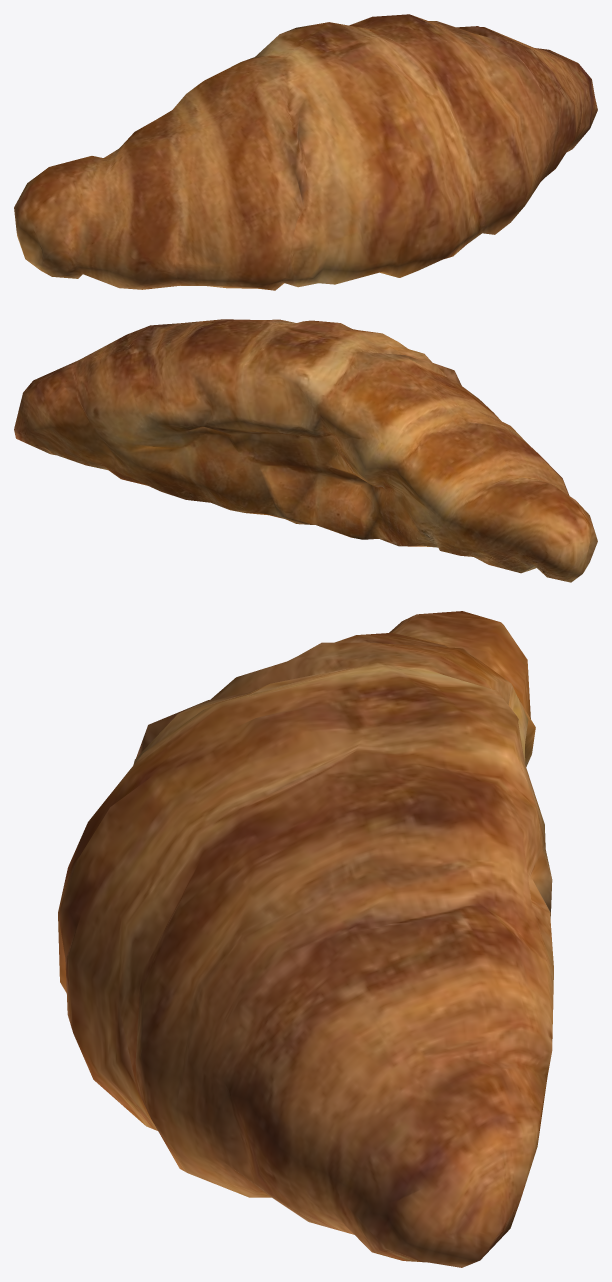
The model's file is croissant.glb.
The picture shows the model from 3 angles, top to bottom: view 1: azimuth 30°, elevation 25°; view 2: azimuth 150°, elevation 25°; view 3: azimuth 270°, elevation 25°; orthographic projection. The views are drawn at different scales.
Parts seen in each view (by area): view 1: croissant; view 2: croissant; view 3: croissant.
Boxes of the visible parts, x1,y1,x2,y2 form: croissant: [14, 14, 597, 290]; croissant: [14, 319, 597, 582]; croissant: [58, 611, 553, 1267].
Bounding box in the file's own units: 0.2001 × 0.062 × 0.0753.
1 material, 1 textured.
